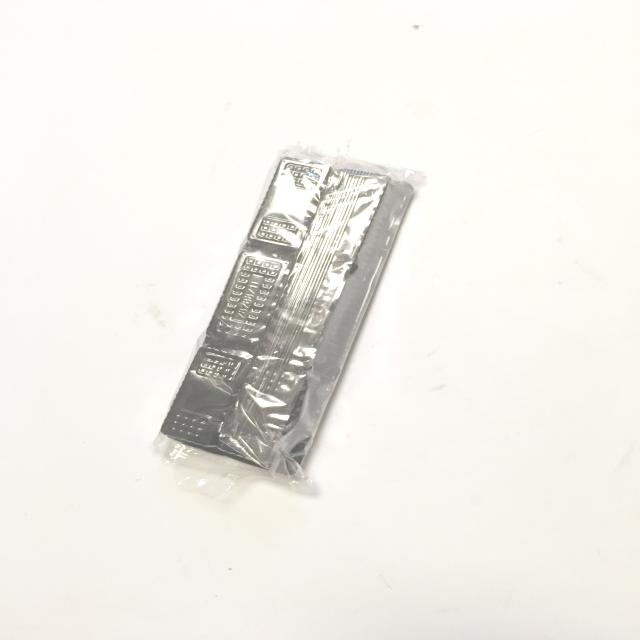Plastic: (54, 109, 451, 512)
